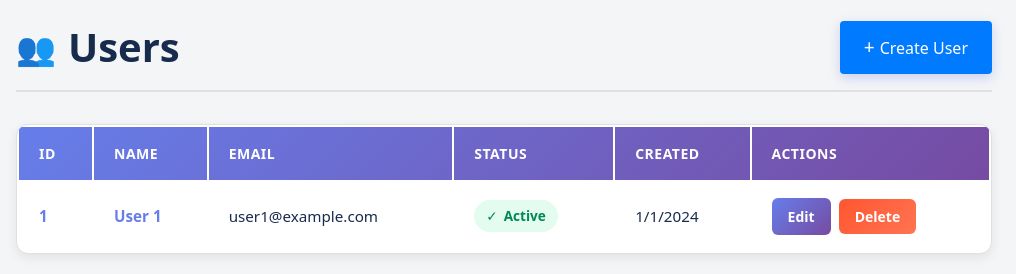
Test case: Users - Additional Coverage › should handle non-Error delete exception
Expected: the link "User 1" is shown, [114, 206, 162, 226]
Click the button "Delete". click: (877, 216)
box: [839, 199, 916, 234]
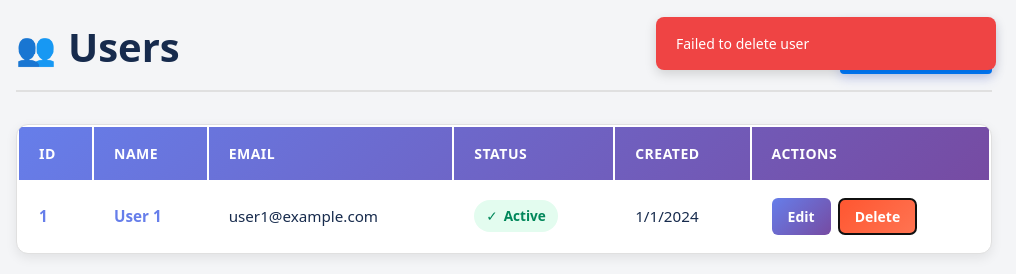
Now the text "Failed to delete user" is shown, box [656, 17, 996, 70]
